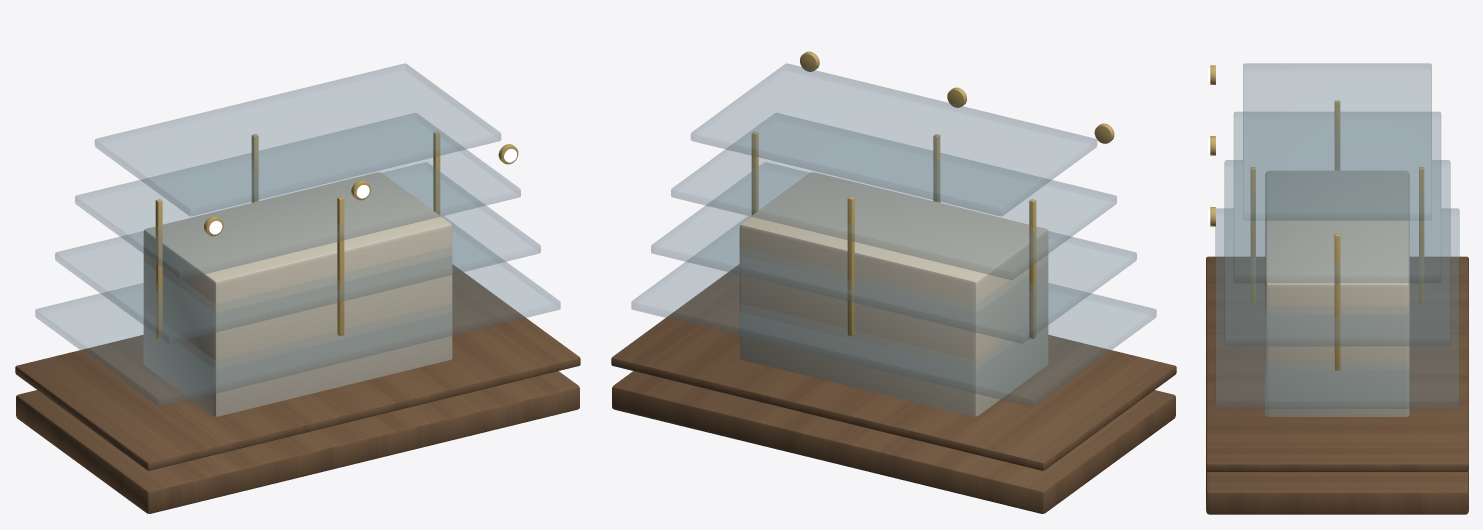
The model's file is pf_display_luxury_display_island_t4.glb.
The picture shows the model from 3 angles, left to right: view 1: azimuth 30°, elevation 25°; view 2: azimuth 150°, elevation 25°; view 3: azimuth 270°, elevation 25°; orthographic projection.
Visible parts, largest first — view 1: Island_Core, Island_Deck_04, Island_Deck_01, Island_Deck_05, Island_Deck_02, Island_Base, Island_Deck_03, Island_Brass_Post_3, Island_Brass_Post_4, Island_Brass_Post_1; view 2: Island_Core, Island_Deck_04, Island_Deck_01, Island_Deck_05, Island_Deck_02, Island_Base, Island_Deck_03, Island_Brass_Post_2, Island_Brass_Post_3, Island_Brass_Post_1; view 3: Island_Core, Island_Deck_04, Island_Deck_01, Island_Deck_05, Island_Deck_02, Island_Deck_03, Island_Base, Island_Brass_Post_1, Island_Brass_Post_2, Island_Brass_Post_4, Island_Brass_Post_3.
Part boxes in pixels (x1=…): Island_Core: x1=143, y1=172, x2=452, y2=416; Island_Deck_04: x1=75, y1=113, x2=520, y2=279; Island_Deck_01: x1=15, y1=264, x2=580, y2=470; Island_Deck_05: x1=95, y1=63, x2=500, y2=215; Island_Deck_02: x1=35, y1=216, x2=560, y2=406; Island_Base: x1=16, y1=371, x2=579, y2=513; Island_Deck_03: x1=55, y1=162, x2=540, y2=343; Island_Brass_Post_3: x1=155, y1=199, x2=162, y2=338; Island_Brass_Post_4: x1=337, y1=196, x2=344, y2=336; Island_Brass_Post_1: x1=433, y1=131, x2=440, y2=214; Island_Core: x1=739, y1=172, x2=1048, y2=416; Island_Deck_04: x1=671, y1=113, x2=1116, y2=279; Island_Deck_01: x1=611, y1=264, x2=1176, y2=470; Island_Deck_05: x1=691, y1=63, x2=1096, y2=215; Island_Deck_02: x1=631, y1=216, x2=1156, y2=406; Island_Base: x1=612, y1=371, x2=1175, y2=513; Island_Deck_03: x1=651, y1=162, x2=1136, y2=343; Island_Brass_Post_2: x1=847, y1=196, x2=854, y2=336; Island_Brass_Post_3: x1=1029, y1=199, x2=1036, y2=338; Island_Brass_Post_1: x1=751, y1=131, x2=758, y2=214; Island_Core: x1=1265, y1=171, x2=1409, y2=416; Island_Deck_04: x1=1234, y1=112, x2=1440, y2=282; Island_Deck_01: x1=1206, y1=256, x2=1468, y2=471; Island_Deck_05: x1=1243, y1=63, x2=1431, y2=220; Island_Deck_02: x1=1215, y1=208, x2=1459, y2=408; Island_Deck_03: x1=1224, y1=160, x2=1450, y2=345; Island_Base: x1=1206, y1=470, x2=1468, y2=514; Island_Brass_Post_1: x1=1334, y1=233, x2=1340, y2=370; Island_Brass_Post_2: x1=1419, y1=167, x2=1424, y2=303; Island_Brass_Post_4: x1=1250, y1=167, x2=1255, y2=303; Island_Brass_Post_3: x1=1334, y1=100, x2=1340, y2=170.
Bounding box in the file's own units: 2.25 × 1.48 × 1.2.
6 materials, 1 textured.
